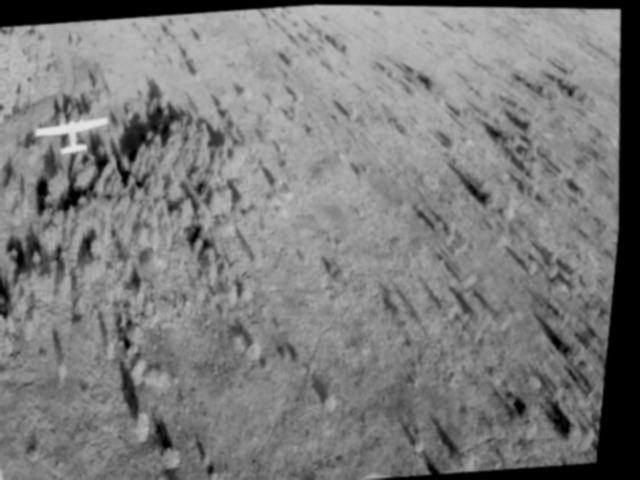hedef: (29, 99, 118, 166)
